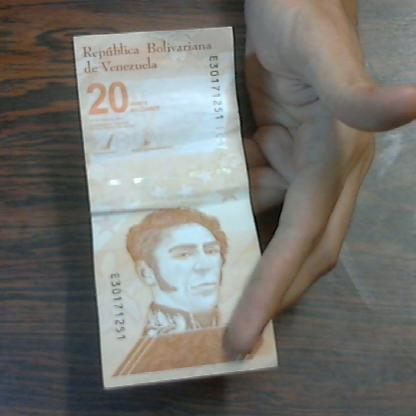twenty-front-vef: (60, 25, 396, 396)
